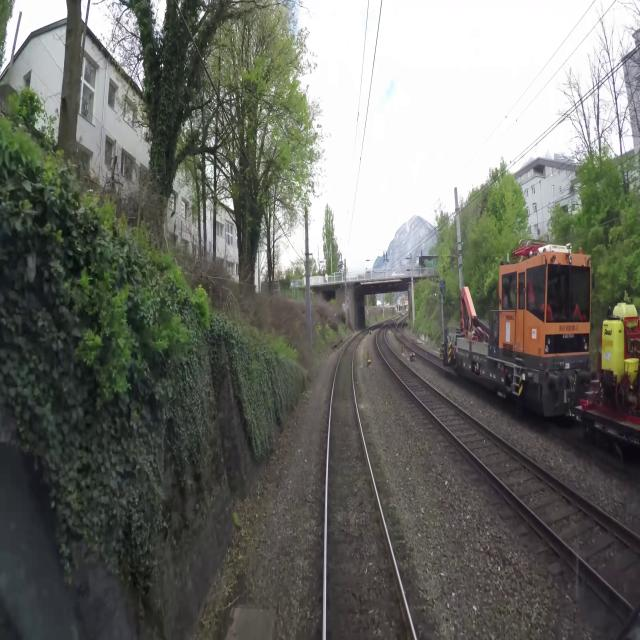rail-track: (378, 328, 640, 609), (327, 337, 412, 639), (399, 334, 443, 364)
